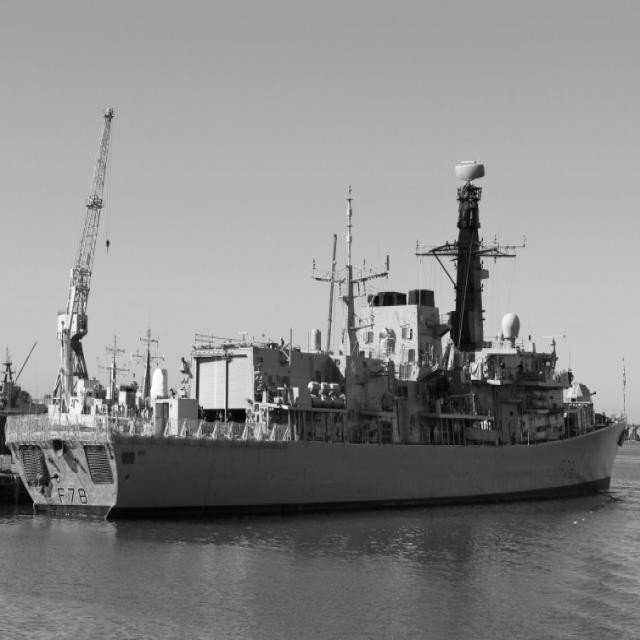Fragata: (1, 152, 633, 527)
